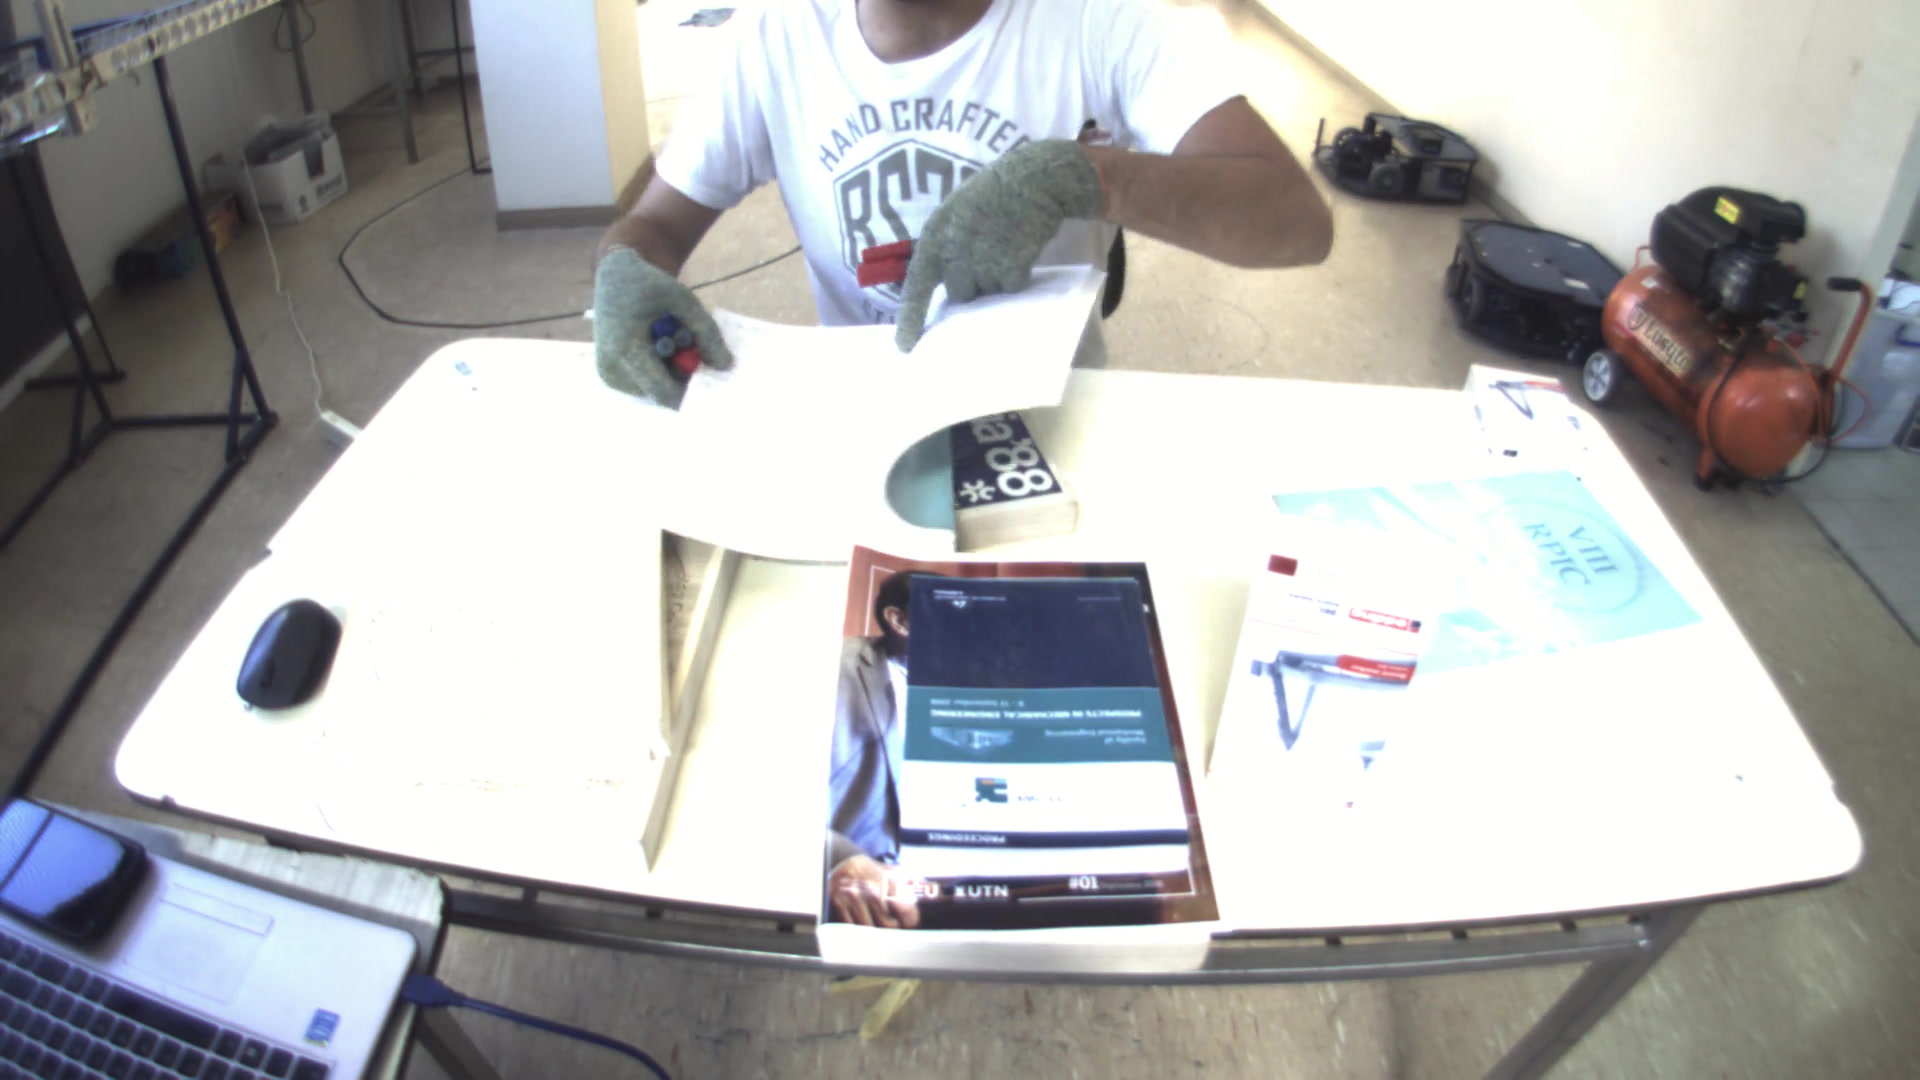hand: (880, 137, 1100, 349), (571, 243, 736, 404)
